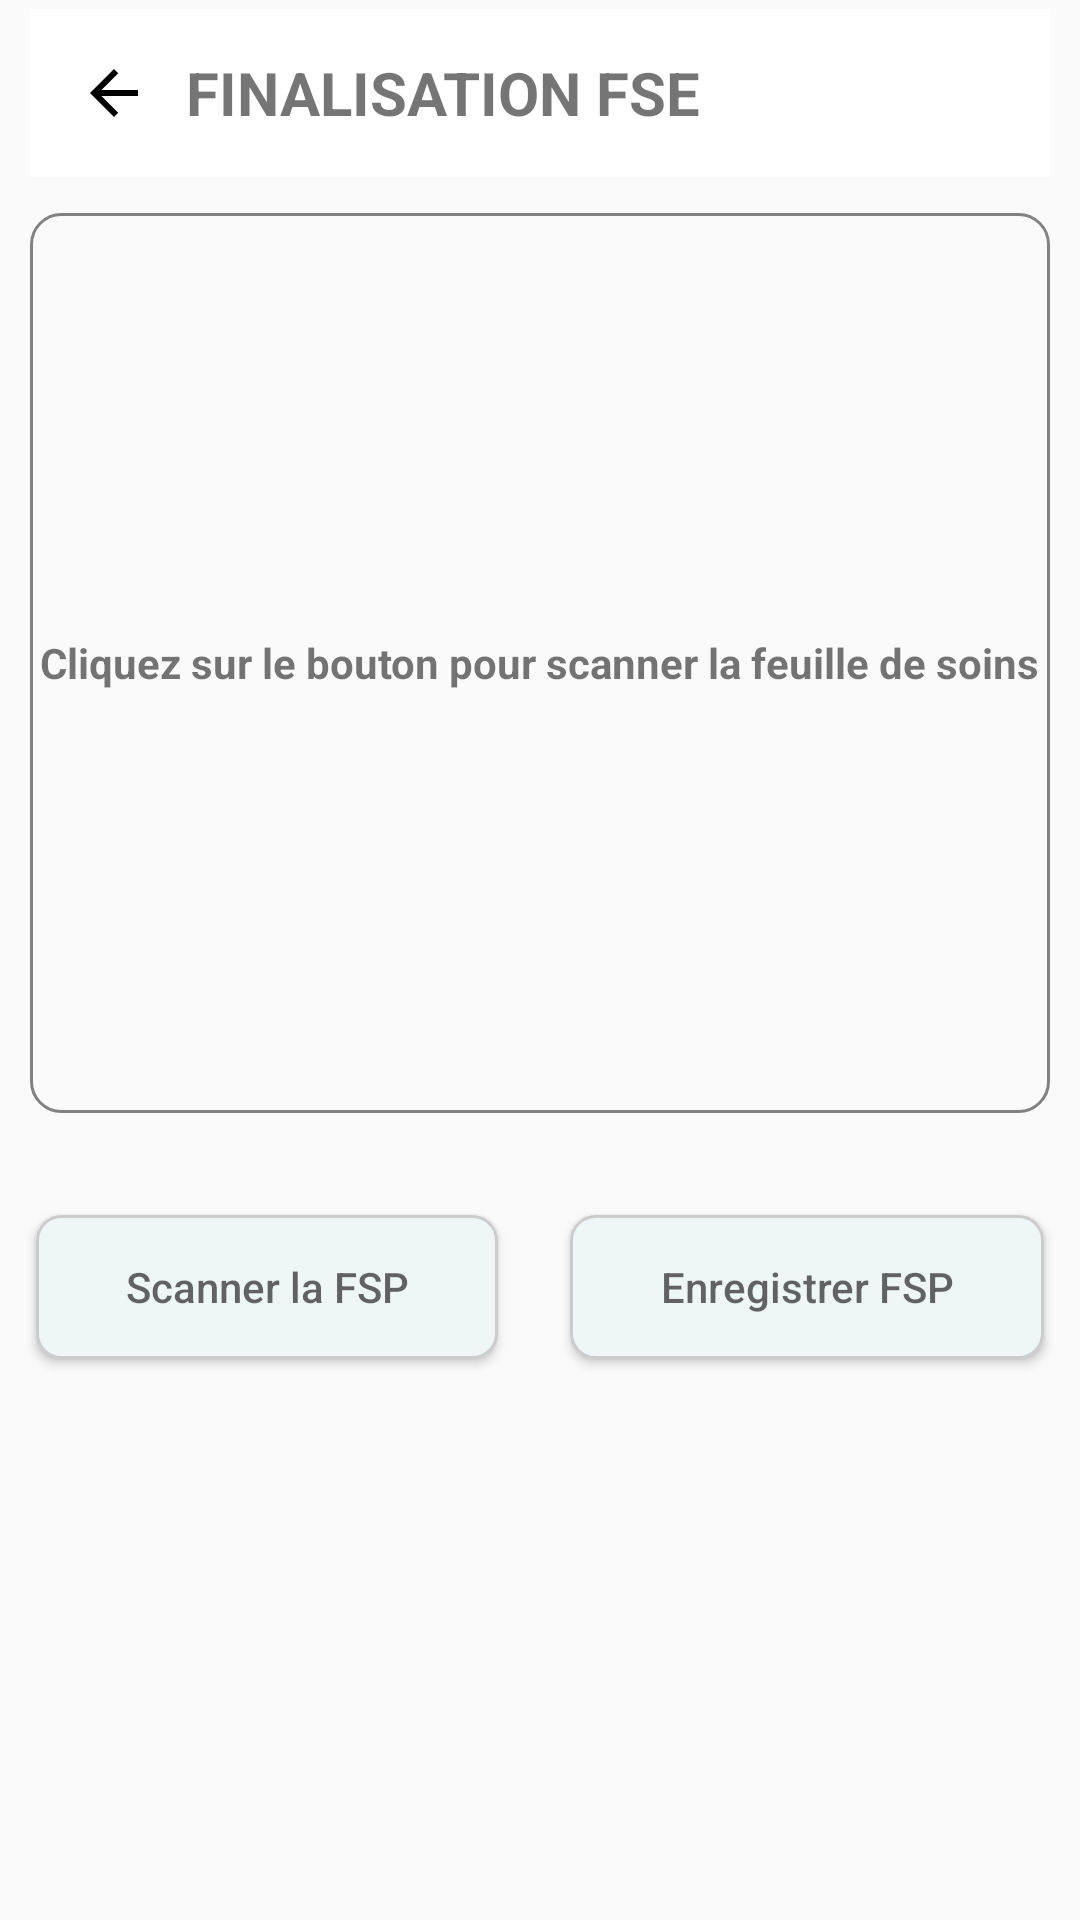

Locate icon controls on the screen. Image size 1080*1920, boxes as (x1, y1, x2, y2).
back: (90, 69, 138, 117)
